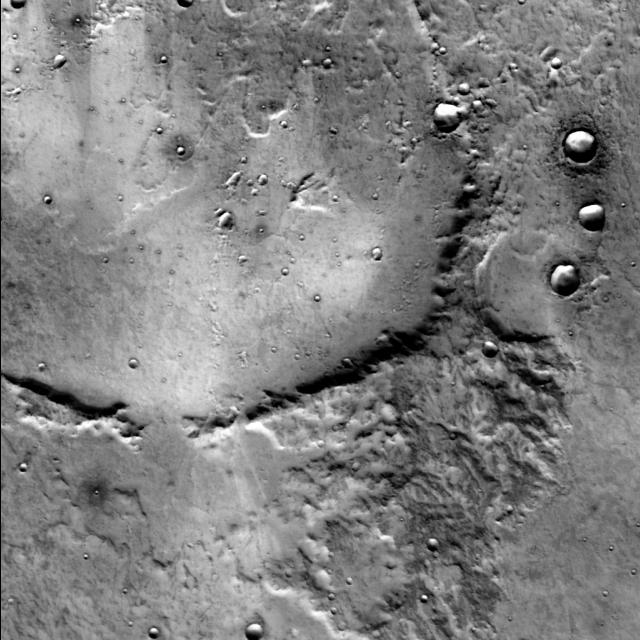crater: (0, 130, 415, 640), (0, 1, 467, 440), (472, 230, 586, 344), (310, 526, 411, 628), (565, 128, 597, 161), (552, 264, 582, 294), (434, 102, 462, 130), (580, 202, 608, 230), (244, 621, 264, 640), (482, 339, 498, 355), (226, 170, 242, 186), (222, 209, 236, 223), (426, 536, 439, 550), (458, 80, 471, 92), (148, 626, 160, 638), (372, 246, 384, 258), (553, 56, 563, 66), (345, 354, 355, 364), (128, 354, 138, 364), (56, 52, 66, 62), (474, 96, 484, 106), (479, 74, 489, 84), (486, 94, 496, 104), (260, 172, 270, 182), (351, 458, 361, 468), (614, 57, 624, 67), (433, 50, 441, 59), (172, 150, 180, 158), (326, 56, 334, 64), (162, 52, 170, 60), (282, 265, 290, 273), (339, 582, 347, 590), (38, 361, 46, 369), (45, 194, 53, 202), (484, 42, 492, 50), (453, 94, 461, 102), (21, 460, 28, 468), (422, 592, 429, 600), (233, 260, 240, 268), (151, 131, 158, 138), (324, 612, 331, 619), (246, 193, 252, 200), (276, 125, 282, 132), (2, 603, 8, 609), (242, 184, 248, 190), (322, 598, 328, 604)
